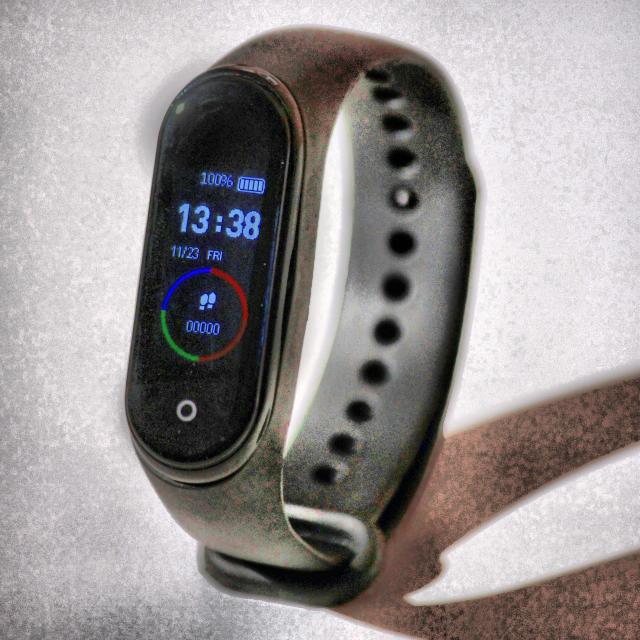Bluetooth headphones: (126, 28, 477, 606)
